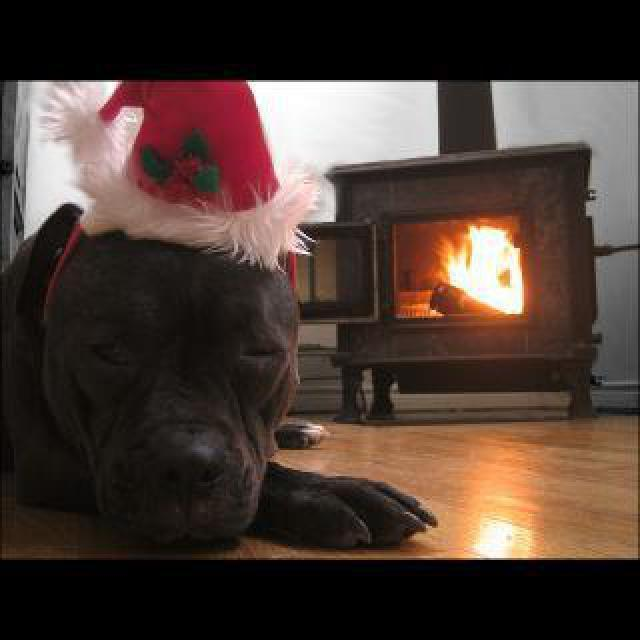Fire: (418, 212, 534, 312)
